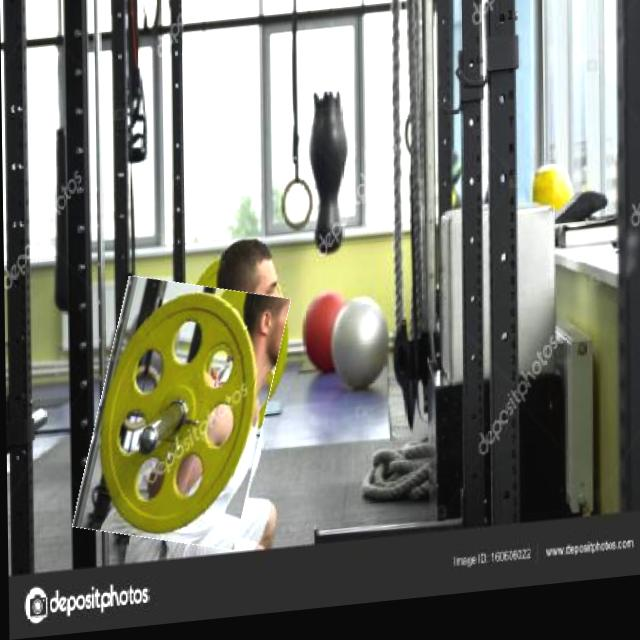barbell: (83, 276, 280, 560)
